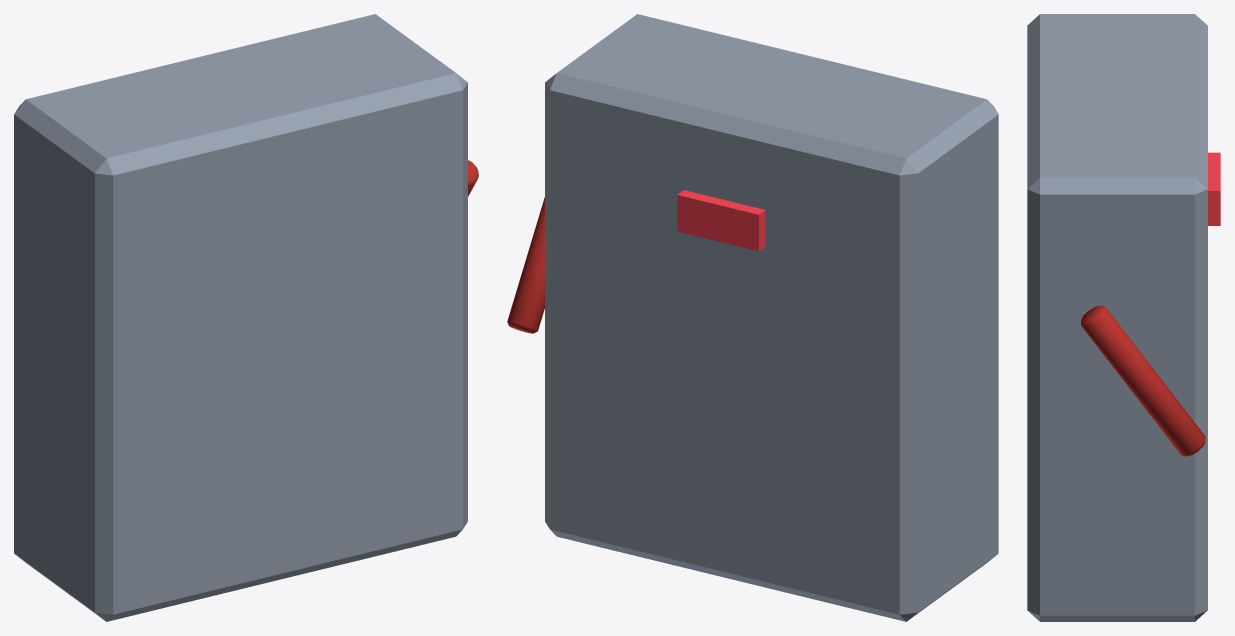
File: industrial_fuse_box.obj
3 renders of one model, left to right at view 1: azimuth 30°, elevation 25°; view 2: azimuth 150°, elevation 25°; view 3: azimuth 270°, elevation 25°, orthographic. The views are drawn at different scales.
Parts seen in each view (by area): view 1: Box; view 2: Box, WarnLED, Lever; view 3: Box, Lever, WarnLED.
Part boxes in pixels (bbox=[...]): Box: bbox=[14, 14, 467, 621]; Box: bbox=[545, 14, 998, 621]; WarnLED: bbox=[677, 190, 765, 251]; Lever: bbox=[507, 197, 544, 333]; Box: bbox=[1027, 14, 1207, 621]; Lever: bbox=[1081, 305, 1205, 456]; WarnLED: bbox=[1208, 152, 1220, 225].
Size of the model in its own units: 0.7038 by 0.76 by 0.3.
